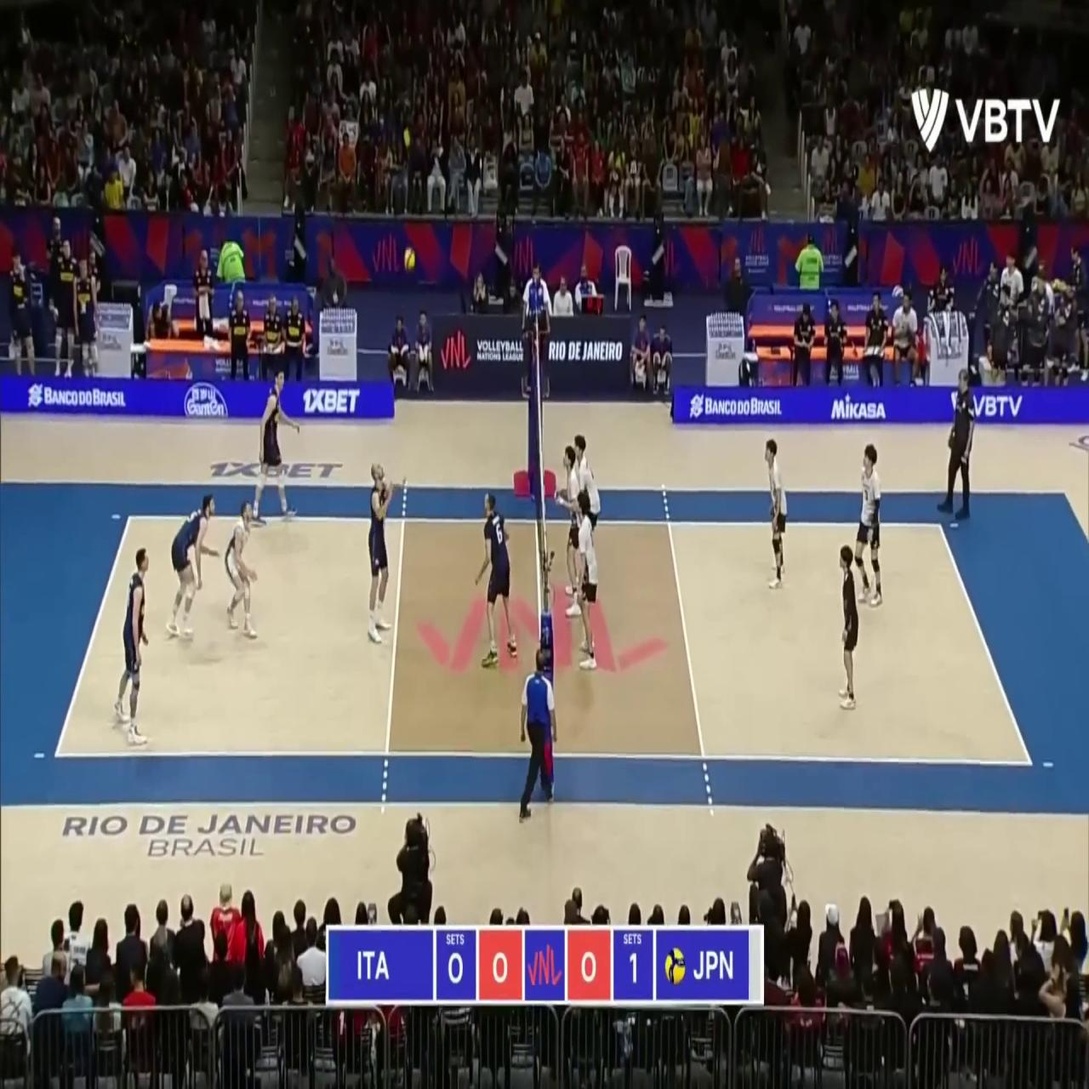ball: (404, 248, 415, 269)
